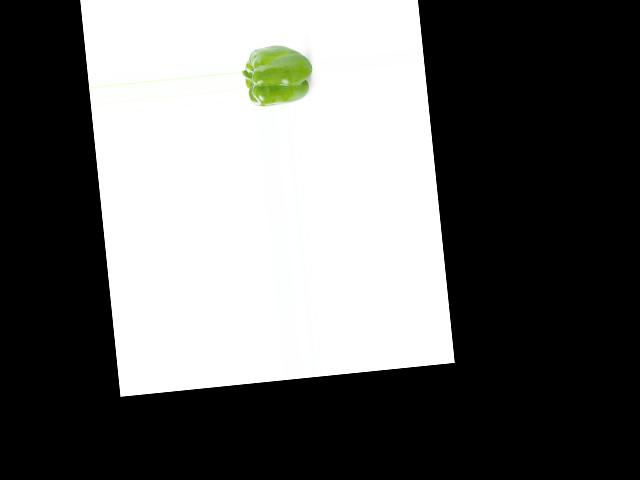bell_pepper: (240, 40, 313, 109)
